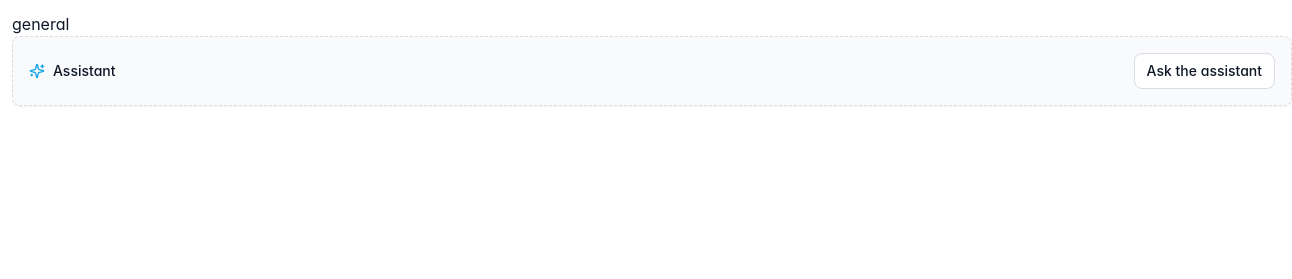
Test: AscAssistantPanel — Step 1 (Slice 3) › valid Interviewer response renders question + chip and Confirm updates business input
Click the button with test id "asc-assistant-ask-1".
click(1204, 71)  # box [1134, 53, 1275, 89]
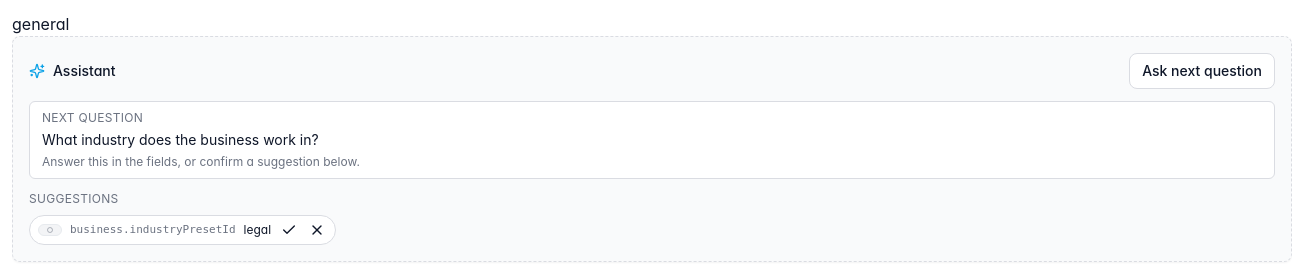
Result: the element with test id "asc-assistant-question-1" is shown at [29, 101, 1275, 179]
Result: the list item with test id "^asc-assistant-proposal-prop-" shows "legal" at [244, 222, 271, 237]
Click the button with test id "^asc-assistant-confirm-prop-".
click(289, 230)  # box [279, 220, 299, 240]
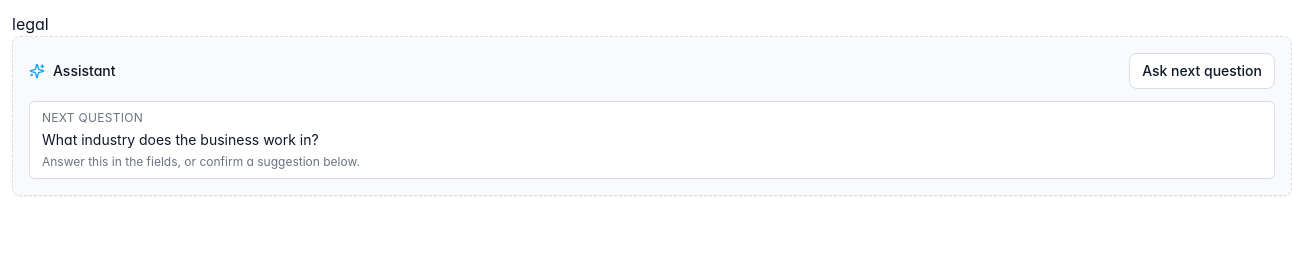
Result: the text with test id "industry-value" reads "legal" at [12, 14, 49, 34]
